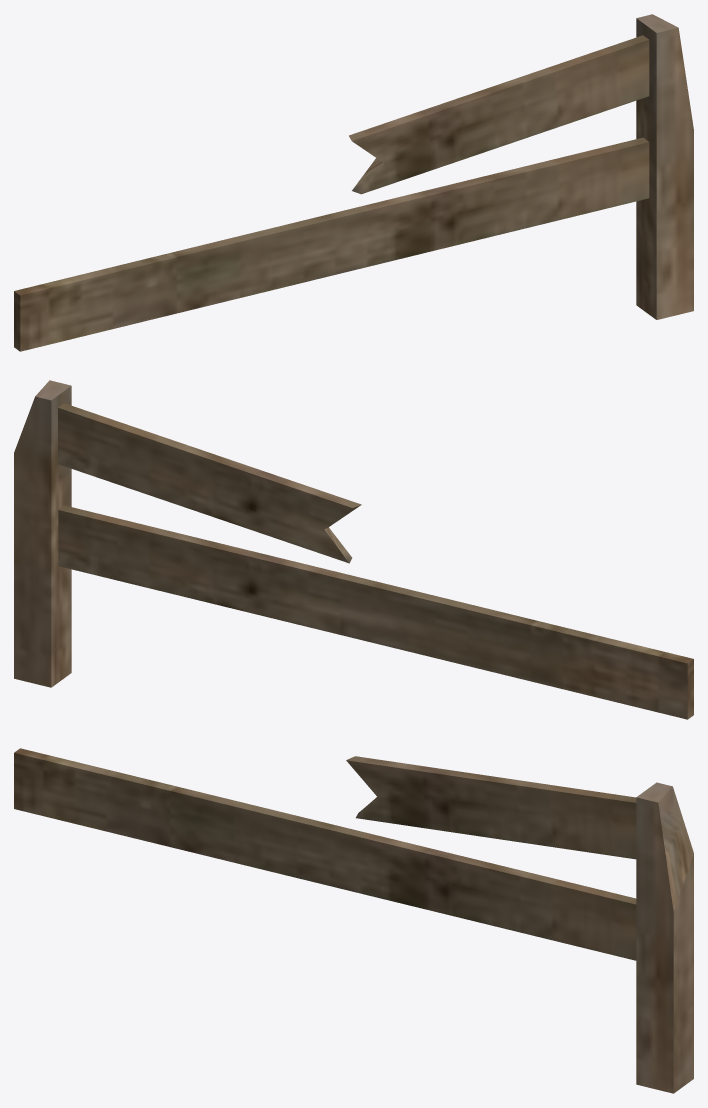
File: Broken Fence1.fbx
The picture shows the model from 3 angles, top to bottom: view 1: azimuth 30°, elevation 25°; view 2: azimuth 150°, elevation 25°; view 3: azimuth 330°, elevation 25°; orthographic projection.
Visible parts, largest first — view 1: broken fence.001; view 2: broken fence.001; view 3: broken fence.001.
Part boxes in pixels (x1,y1,x2,y2): broken fence.001: (14,14,693,351); broken fence.001: (14,380,693,719); broken fence.001: (14,748,693,1093).
Bounding box in the file's own units: 389 × 160 × 20.49.
1 material, 1 textured.
